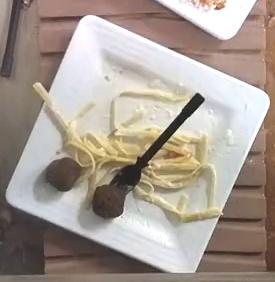meatball: (46, 157, 82, 191), (93, 185, 126, 218)
pasta: (60, 121, 161, 190), (138, 135, 208, 189), (47, 159, 73, 191)
